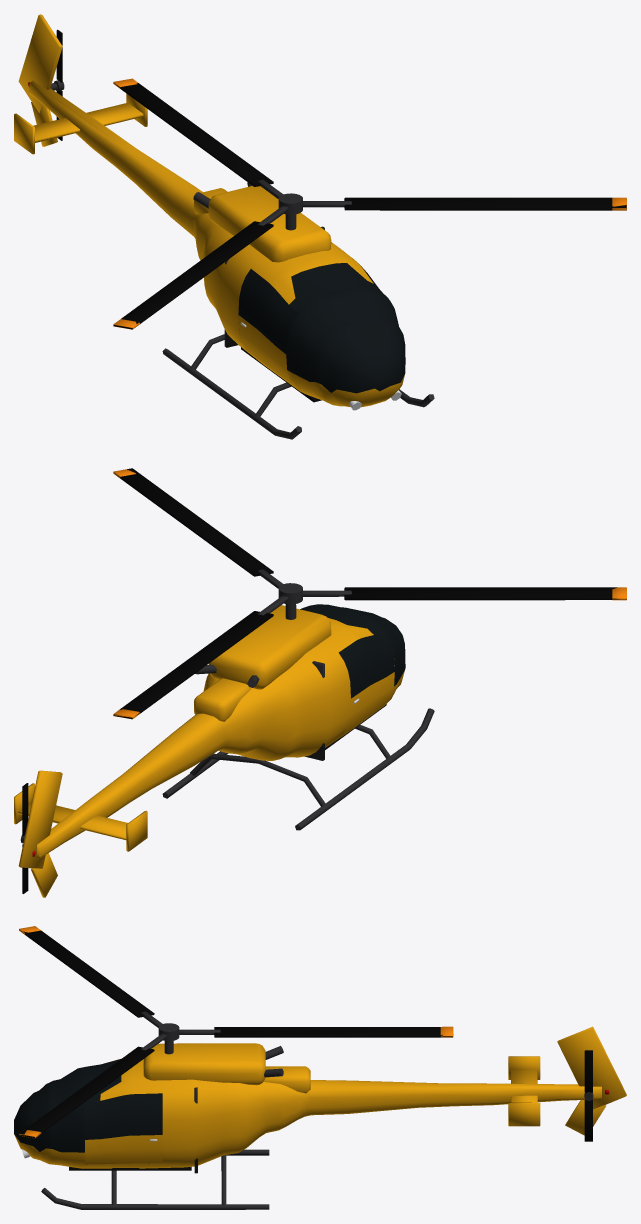
Rendered from heli_lod.glb.
3 views of the same model, one above another, from view 1: azimuth 30°, elevation 25°; view 2: azimuth 150°, elevation 25°; view 3: azimuth 270°, elevation 25° (orthographic). The views are drawn at different scales.
Parts seen in each view (by area): view 1: body, rotor_main, door_fr; view 2: body, rotor_main, door_fr; view 3: body, rotor_main, door_fl, rotor_tail, interior.
Part boxes in pixels (<box>): body: <box>14,14,434,439</box>; rotor_main: <box>113,78,626,329</box>; door_fr: <box>238,269,297,384</box>; body: <box>14,604,434,897</box>; rotor_main: <box>113,468,626,719</box>; door_fr: <box>339,630,394,732</box>; body: <box>14,1026,626,1209</box>; rotor_main: <box>19,926,453,1138</box>; door_fl: <box>85,1093,162,1164</box>; rotor_tail: <box>584,1050,593,1141</box>; interior: <box>69,1087,197,1173</box>.
Bounding box in the file's own units: 7.76 × 2.66 × 9.49.
